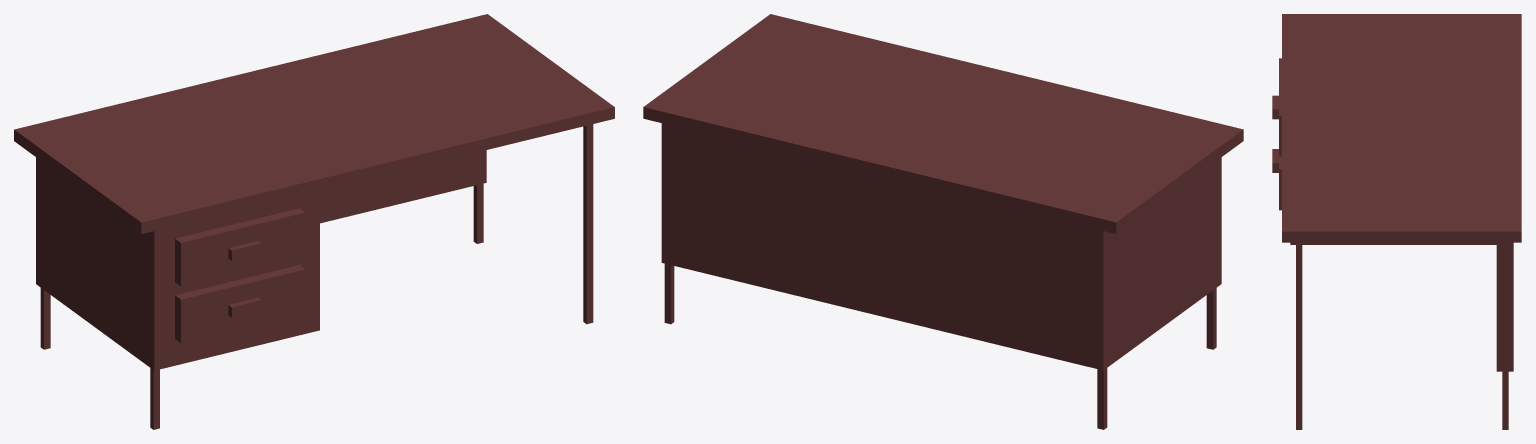
Rendered from desk.fbx.
3 renders of one model, left to right at view 1: azimuth 30°, elevation 25°; view 2: azimuth 150°, elevation 25°; view 3: azimuth 270°, elevation 25°, orthographic. The views are drawn at different scales.
Parts seen in each view (by area): view 1: pCube1, pCube2, pCube3, pCube6, pCube11, pCube10, pCube9, pCube7, pCube8; view 2: pCube1, pCube11, pCube2, pCube7, pCube9, pCube8; view 3: pCube1, pCube11, pCube10, pCube2, pCube9, pCube3.
Part boxes in pixels (x1,y1,x2,y2): pCube1: [14, 14, 614, 234]; pCube2: [36, 157, 319, 370]; pCube3: [175, 208, 305, 286]; pCube6: [175, 265, 305, 343]; pCube11: [320, 150, 486, 223]; pCube10: [583, 124, 593, 324]; pCube9: [473, 183, 483, 243]; pCube7: [40, 288, 50, 349]; pCube8: [150, 368, 159, 429]; pCube1: [643, 14, 1243, 233]; pCube11: [661, 123, 1090, 367]; pCube2: [1090, 157, 1221, 370]; pCube7: [1097, 368, 1107, 429]; pCube9: [664, 263, 674, 324]; pCube8: [1206, 288, 1216, 349]; pCube1: [1282, 14, 1521, 242]; pCube11: [1496, 242, 1513, 371]; pCube10: [1296, 242, 1302, 429]; pCube2: [1290, 242, 1496, 244]; pCube9: [1502, 371, 1508, 429]; pCube3: [1279, 58, 1281, 156].
Bounding box in the file's own units: 12.74 × 6.17 × 5.59.
